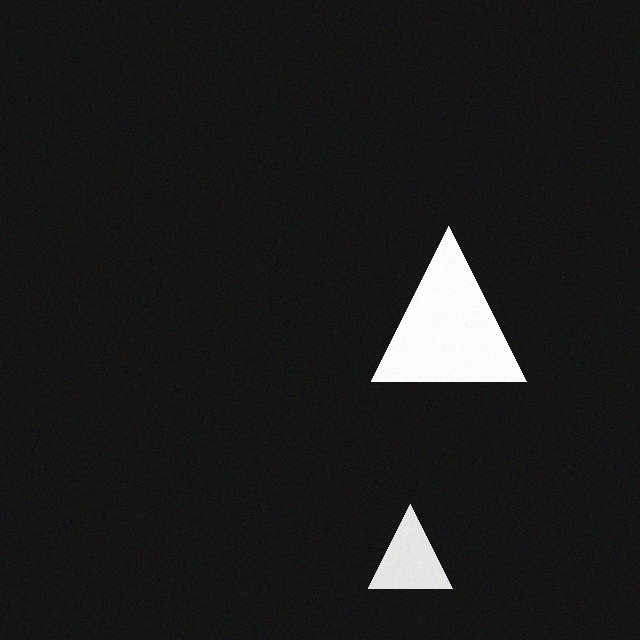triangle: (363, 213, 518, 368), (360, 491, 444, 575)
